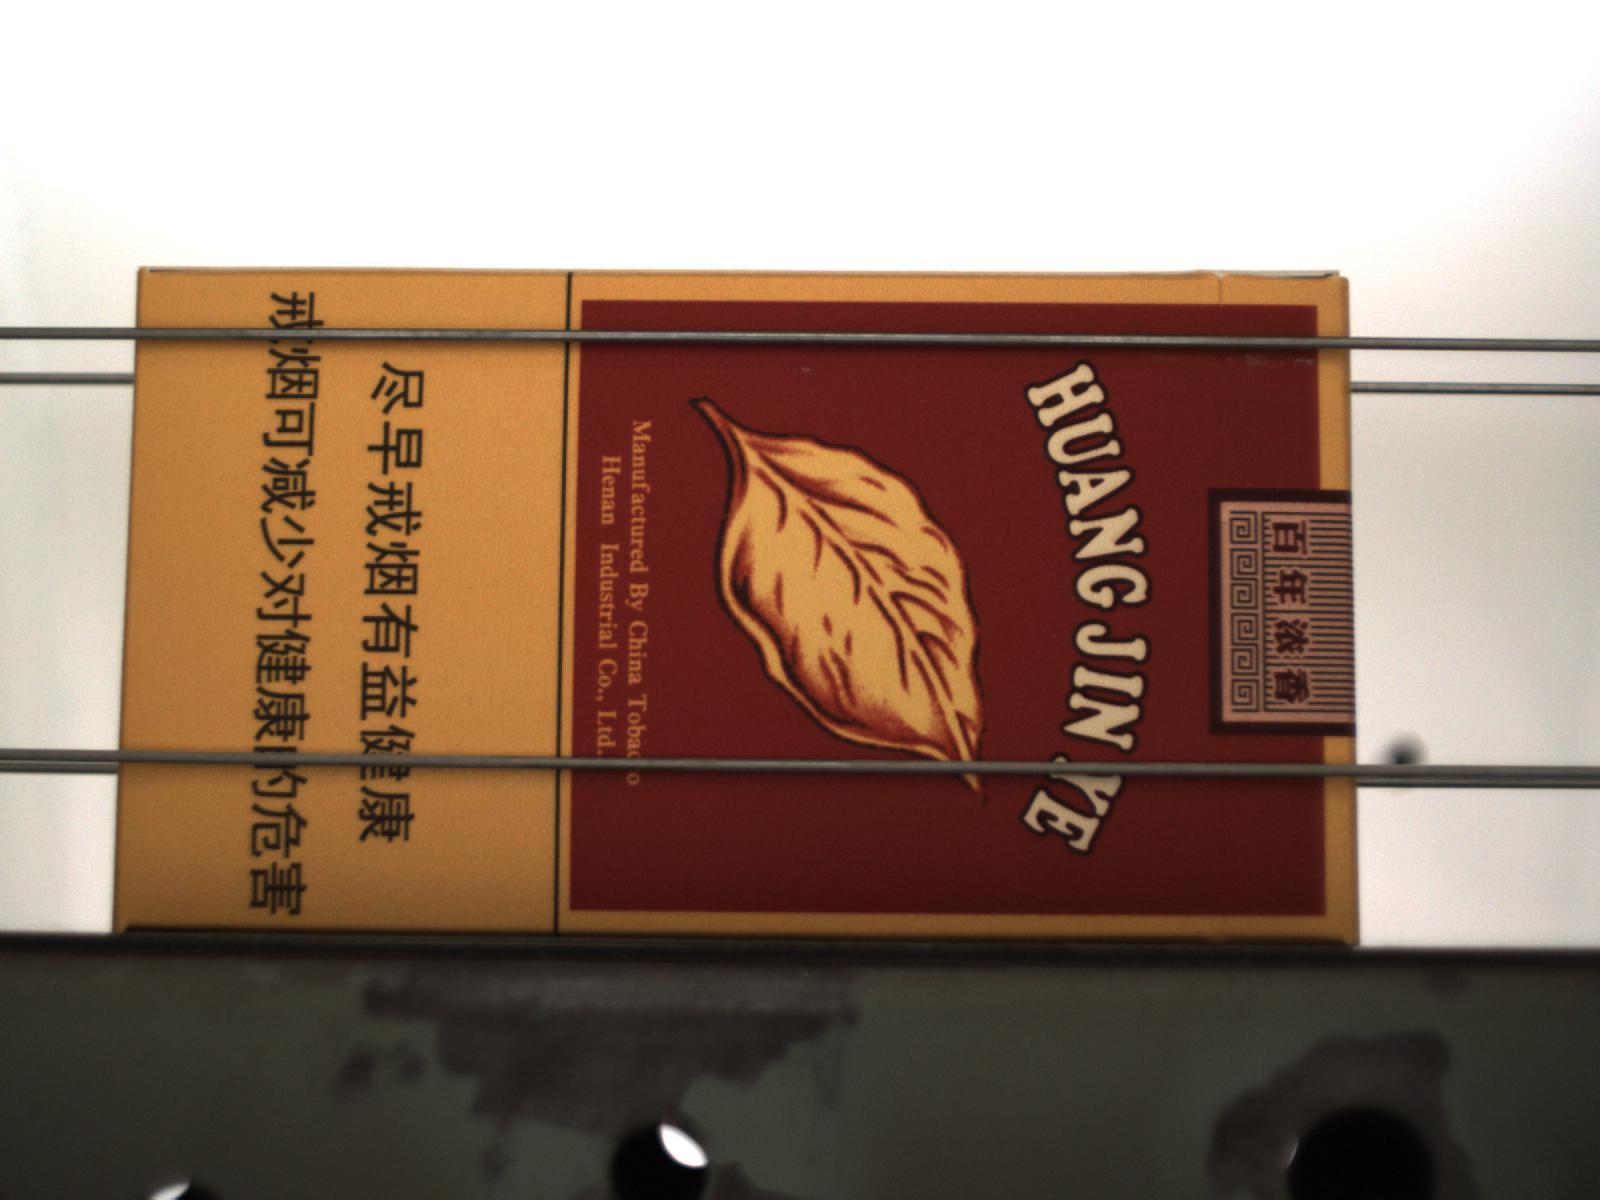dirtyPrint: (801, 366, 811, 374)
gumDirt: (1160, 350, 1317, 371)
